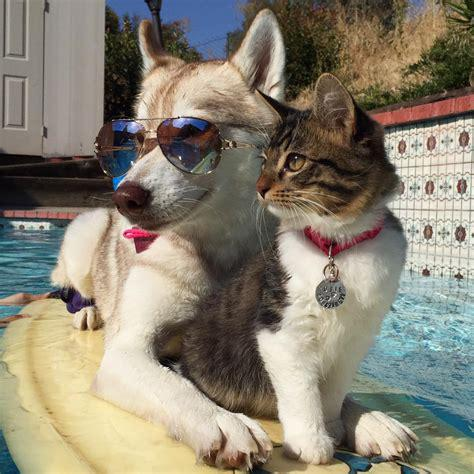cat: (187, 74, 401, 462)
dog: (53, 10, 415, 468)
